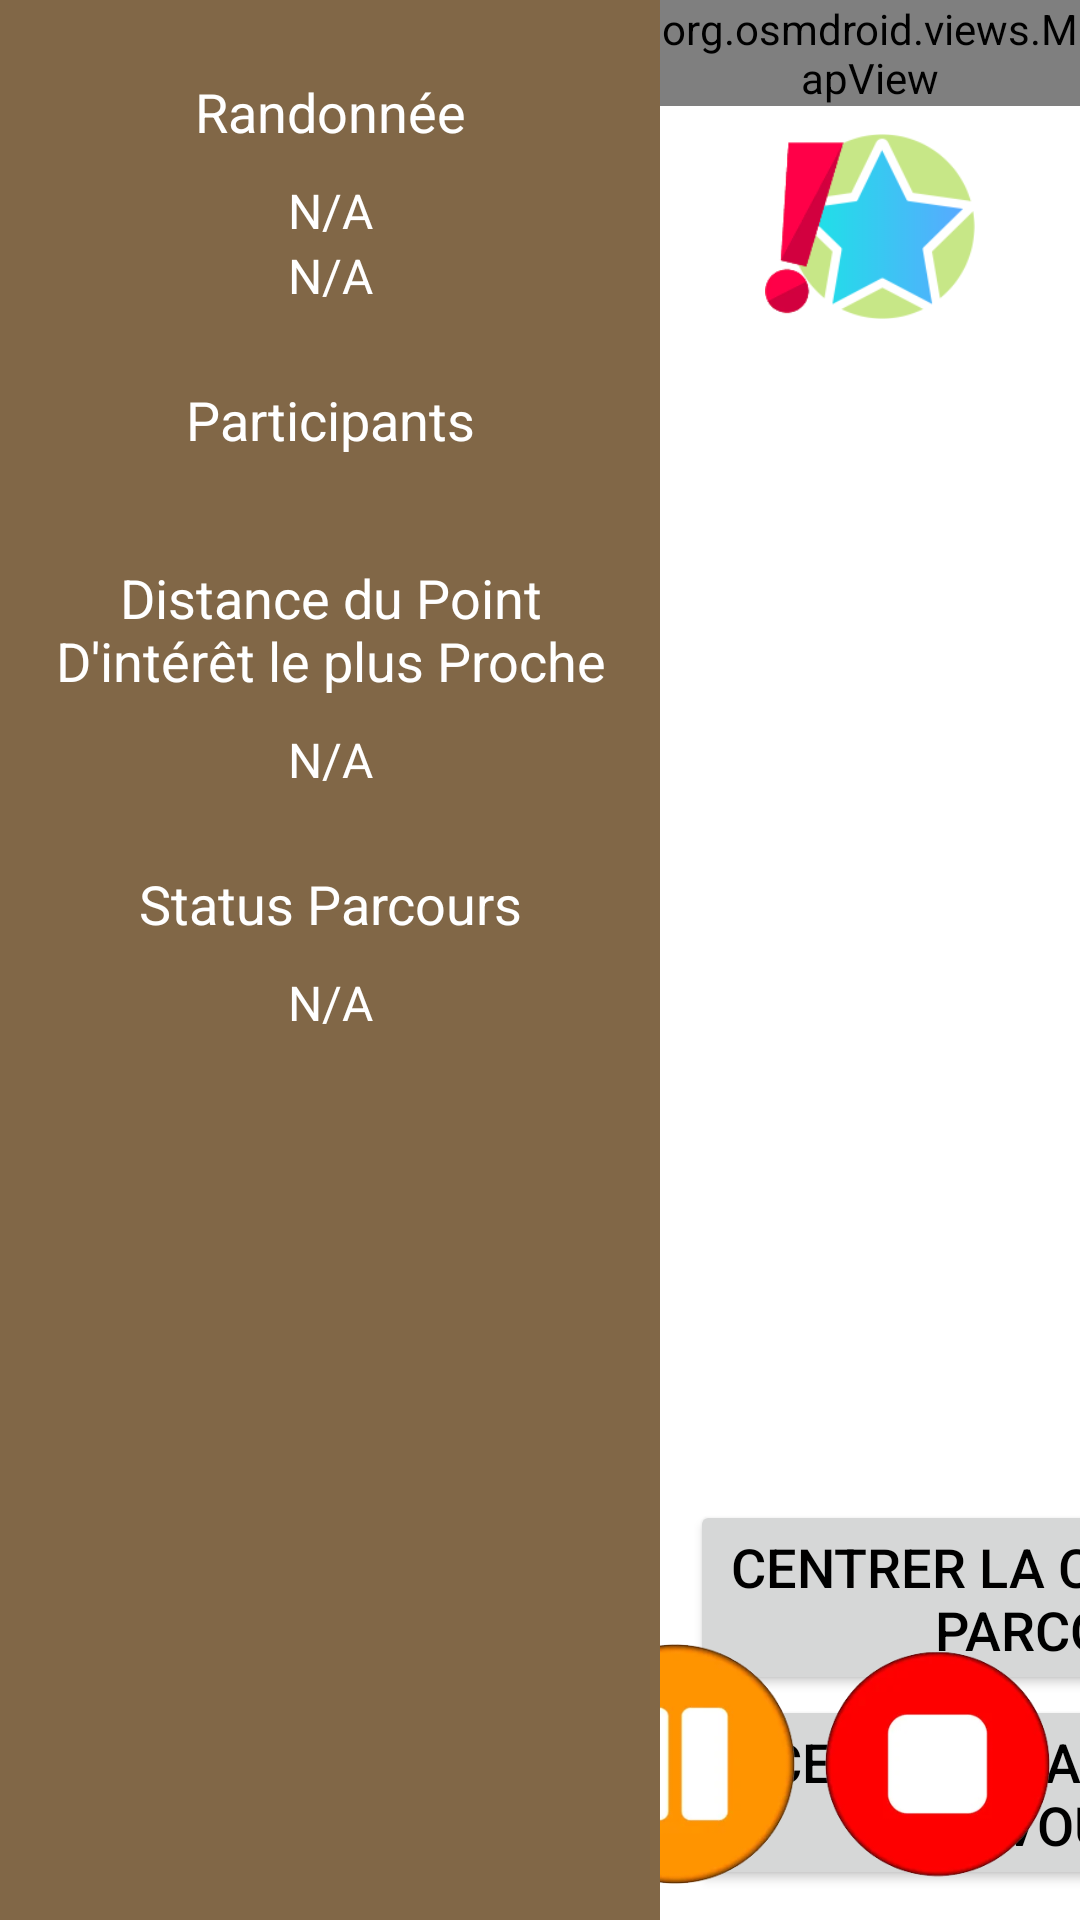

Icon click points for this 1080×1920 phone screenshot, format (x,y):
arreter parcours: (922,1764)
